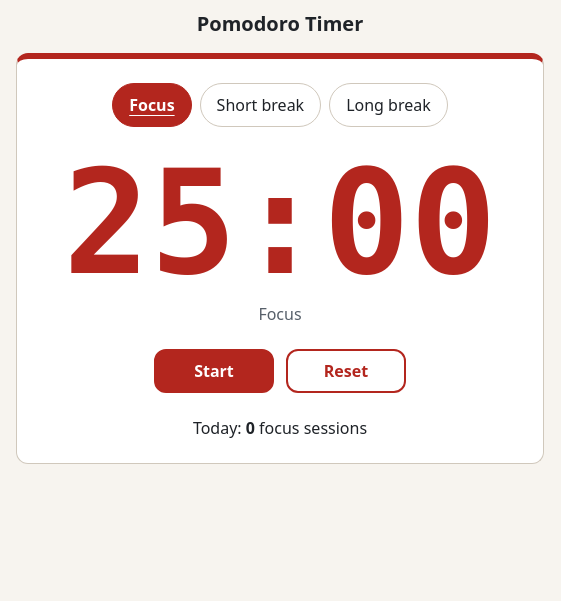
Test: S3 Stay accurate in a background tab › a session whose end has passed is completed exactly once
Click the button "Start" at (214,371), box top-left (154, 349), bottom-right (274, 393)
Wait 5250 ms
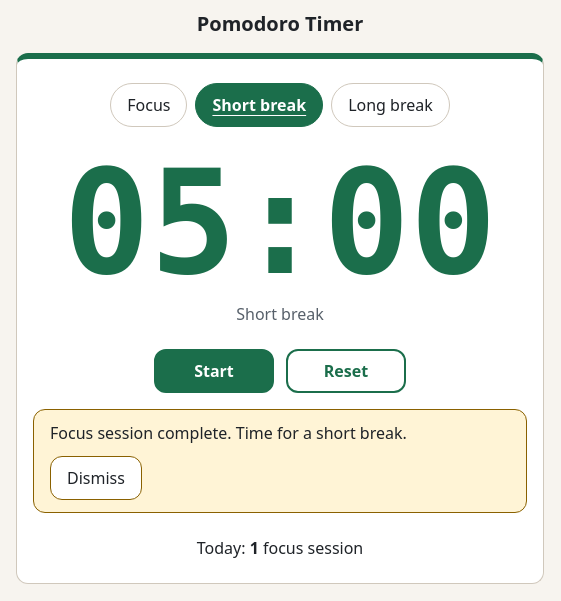
Check: the element with class "today-count" reads "Today: 1 focus session", box top-left (197, 537), bottom-right (363, 559)
Check: the text "Focus session complete. Time for a short break." is shown once, box top-left (50, 422), bottom-right (407, 444)
